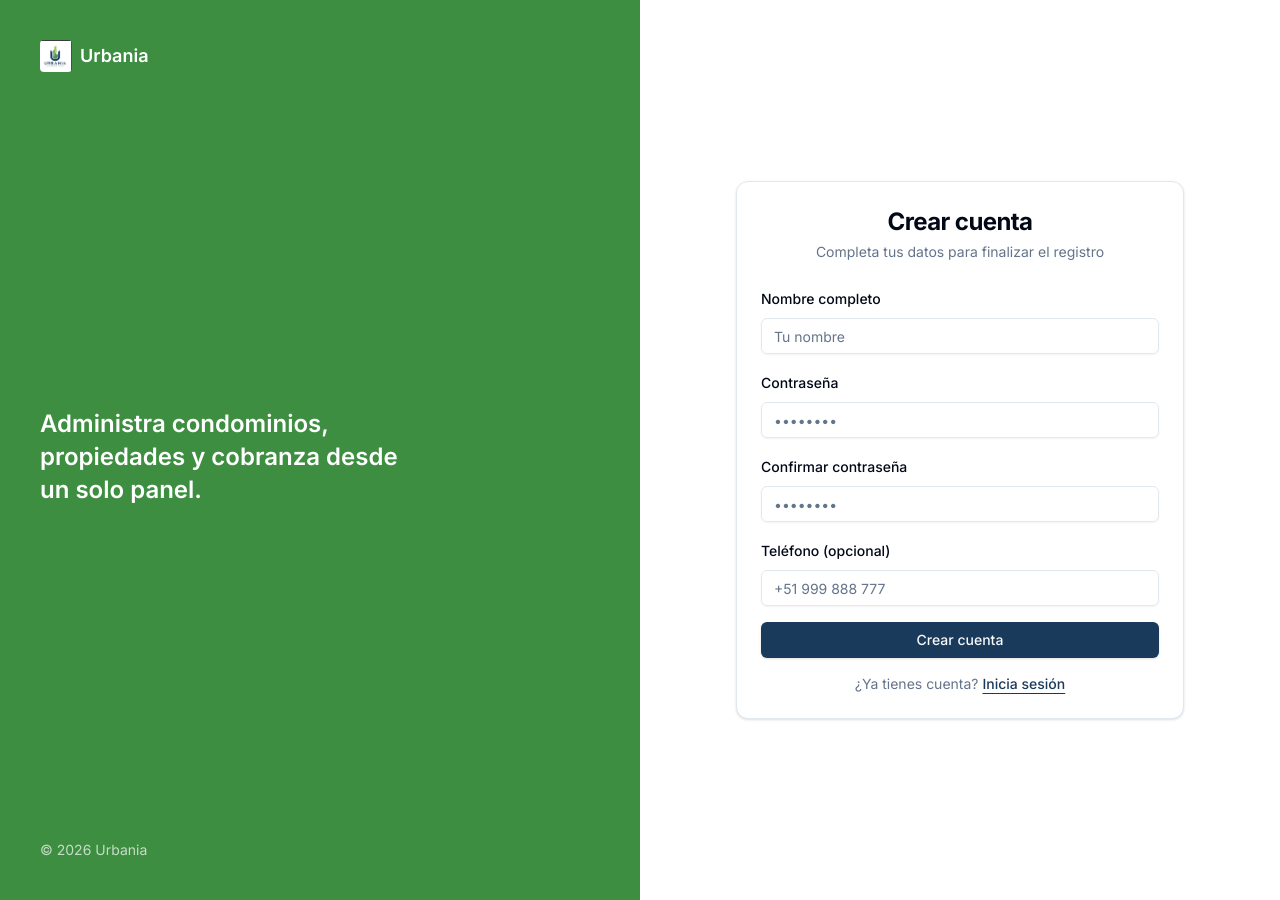
RegisterPage — validación de formulario › CA4 — validación de contraseñas › bloquea el submit cuando las contraseñas no coinciden
Type "Juan Pérez" into the field labelled "Nombre completo".
click(960, 336); type("Juan Pérez")  # box x1=761 y1=318 x2=1159 y2=354
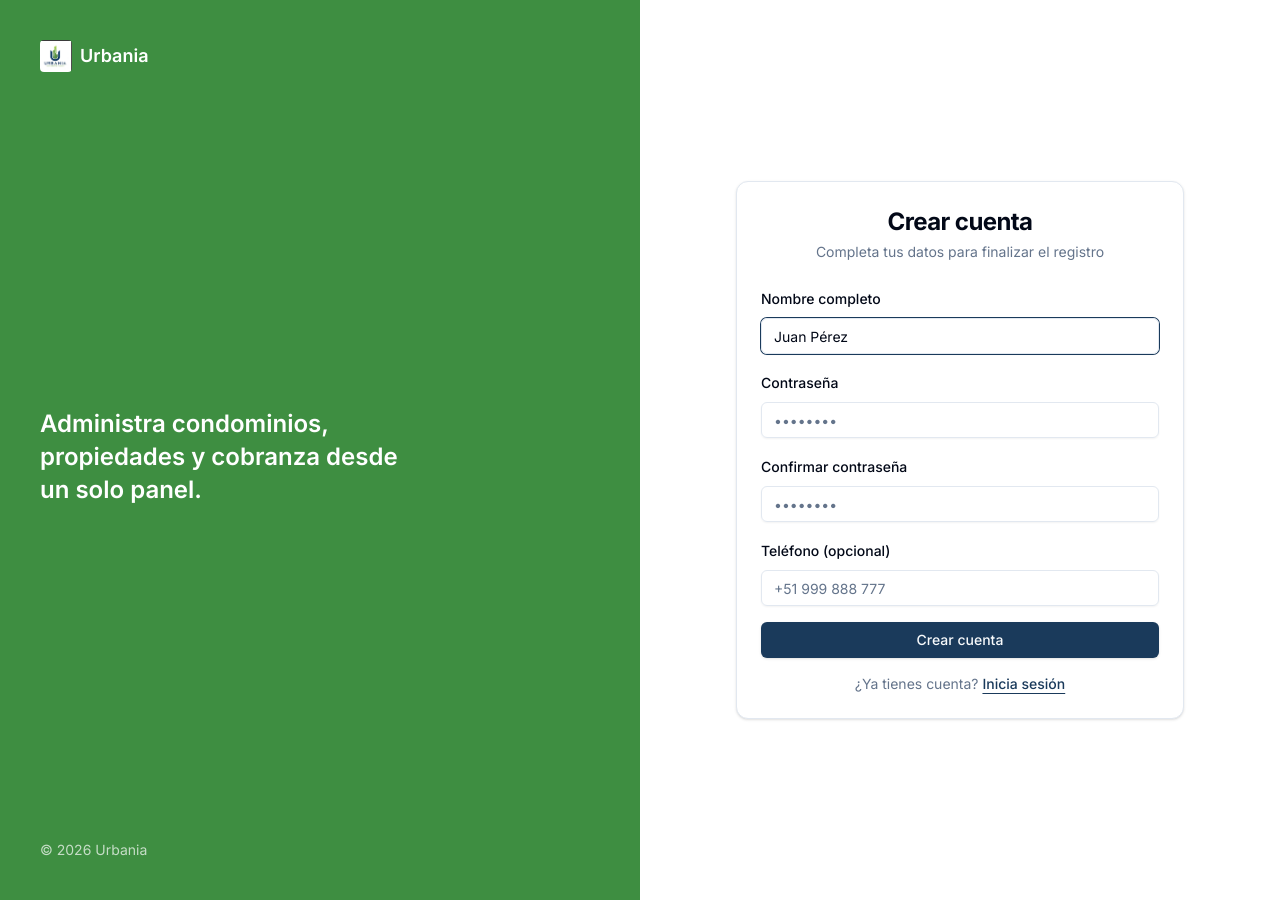
Type "Password1" into the password field labelled "Contraseña".
click(960, 420); type("Password1")  # box x1=761 y1=402 x2=1159 y2=438
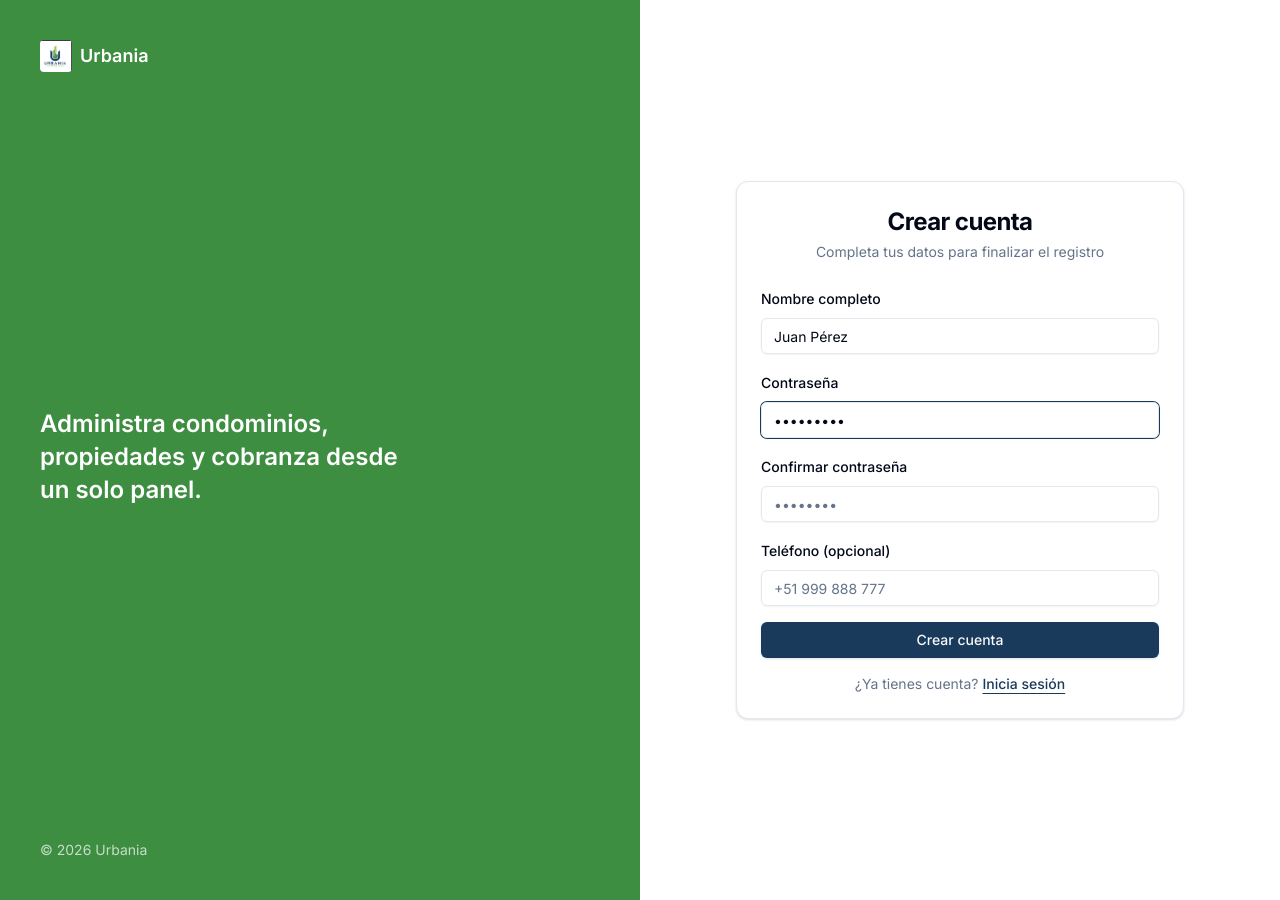
Type "Password2" into the password field labelled "Confirmar contraseña".
click(960, 504); type("Password2")  # box x1=761 y1=486 x2=1159 y2=522
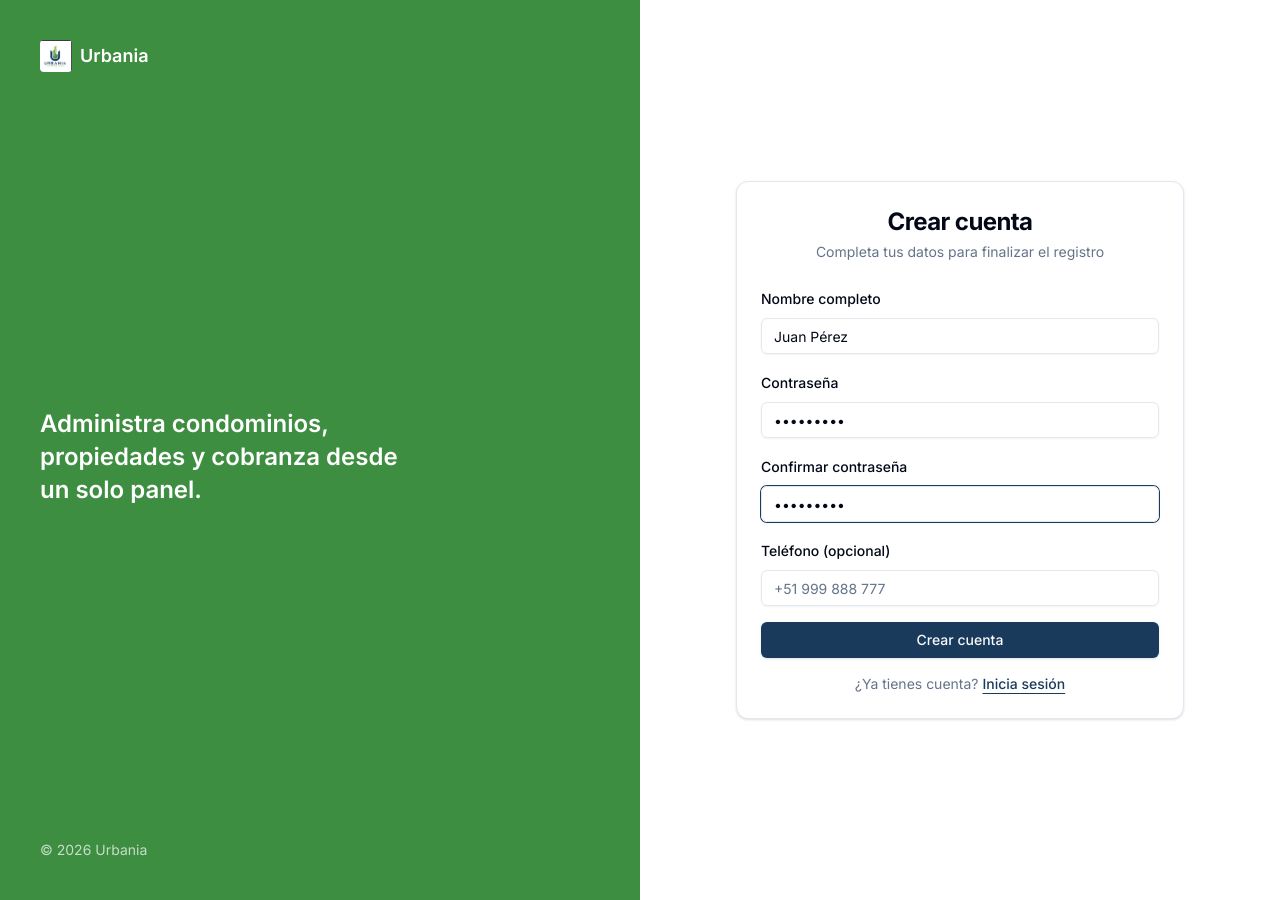
Click the button "Crear cuenta".
click(960, 640)  # box x1=761 y1=622 x2=1159 y2=658
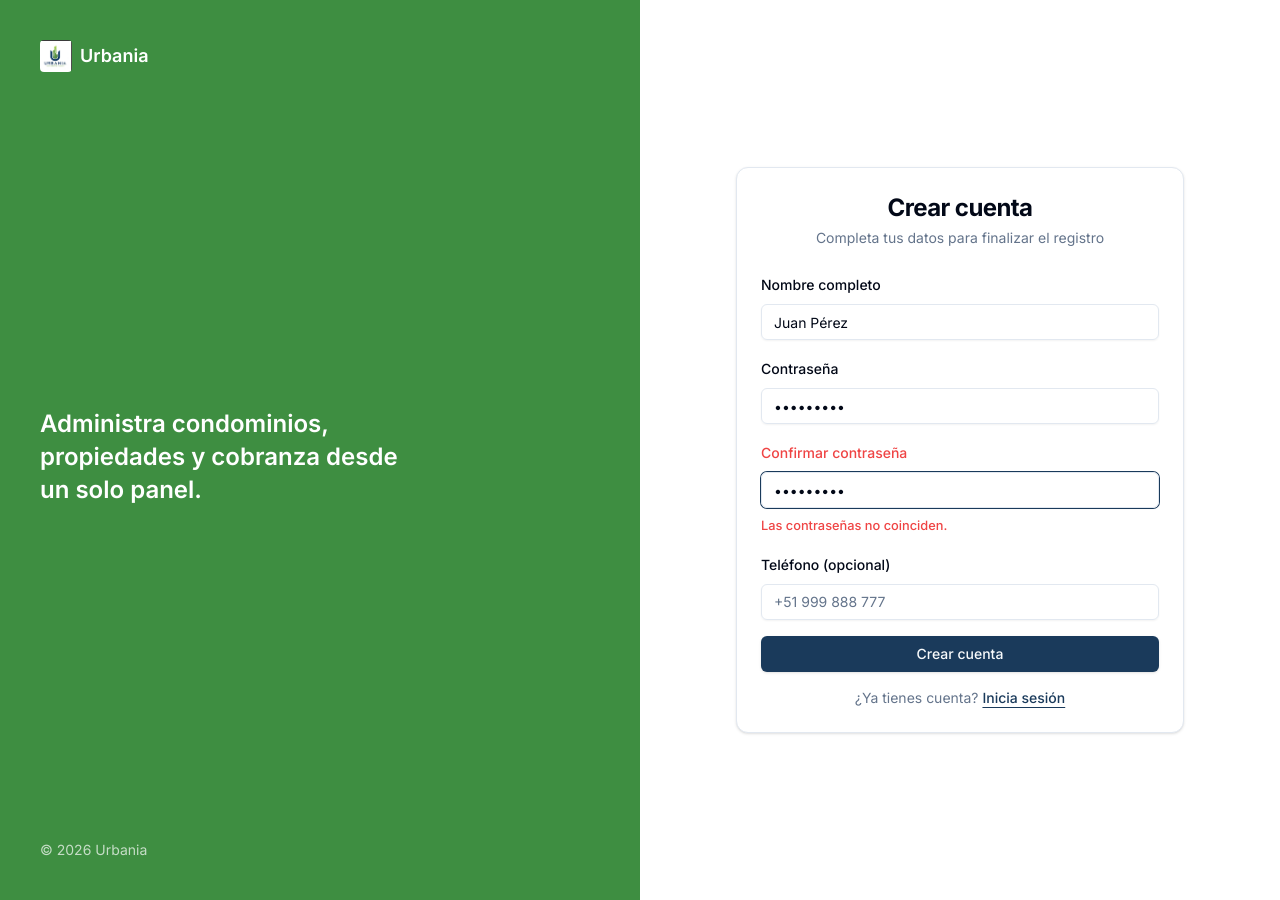
Check: the text "Las contraseñas no coinciden." is shown, box x1=761 y1=518 x2=947 y2=533
